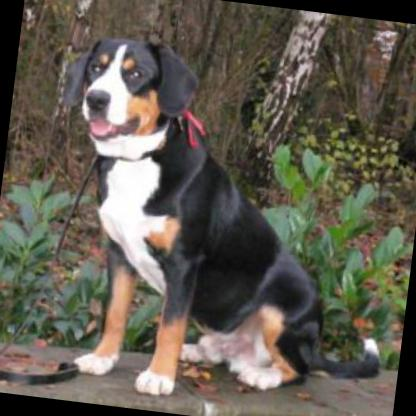EntleBucher: (23, 28, 416, 416)
